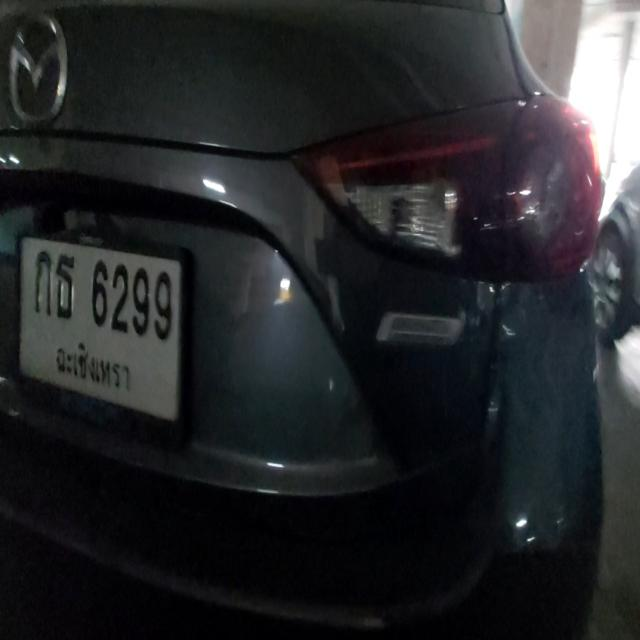license_plate: (20, 240, 180, 421)
